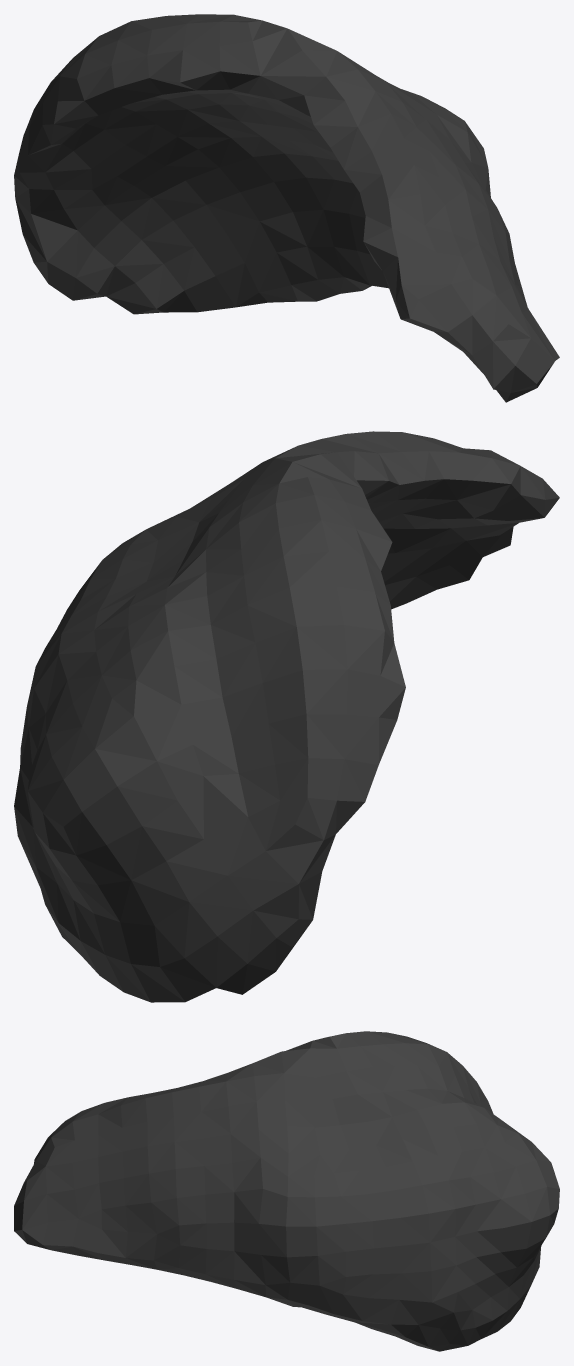
Rendered from PULMONARY_VEINS_R.glb.
3 views of the same model, one above another, from view 1: azimuth 30°, elevation 25°; view 2: azimuth 150°, elevation 25°; view 3: azimuth 270°, elevation 25° (orthographic). The views are drawn at different scales.
Parts seen in each view (by area): view 1: PULMONARY_VEINS_R; view 2: PULMONARY_VEINS_R; view 3: PULMONARY_VEINS_R.
Boxes of the visible parts, box(x1,y1,x2,y2) form: PULMONARY_VEINS_R: box(14, 14, 559, 402); PULMONARY_VEINS_R: box(14, 431, 559, 1002); PULMONARY_VEINS_R: box(14, 1031, 559, 1351).
Size of the model in its own units: 21.55 by 21.75 by 38.82.
1 material, 1 textured.
